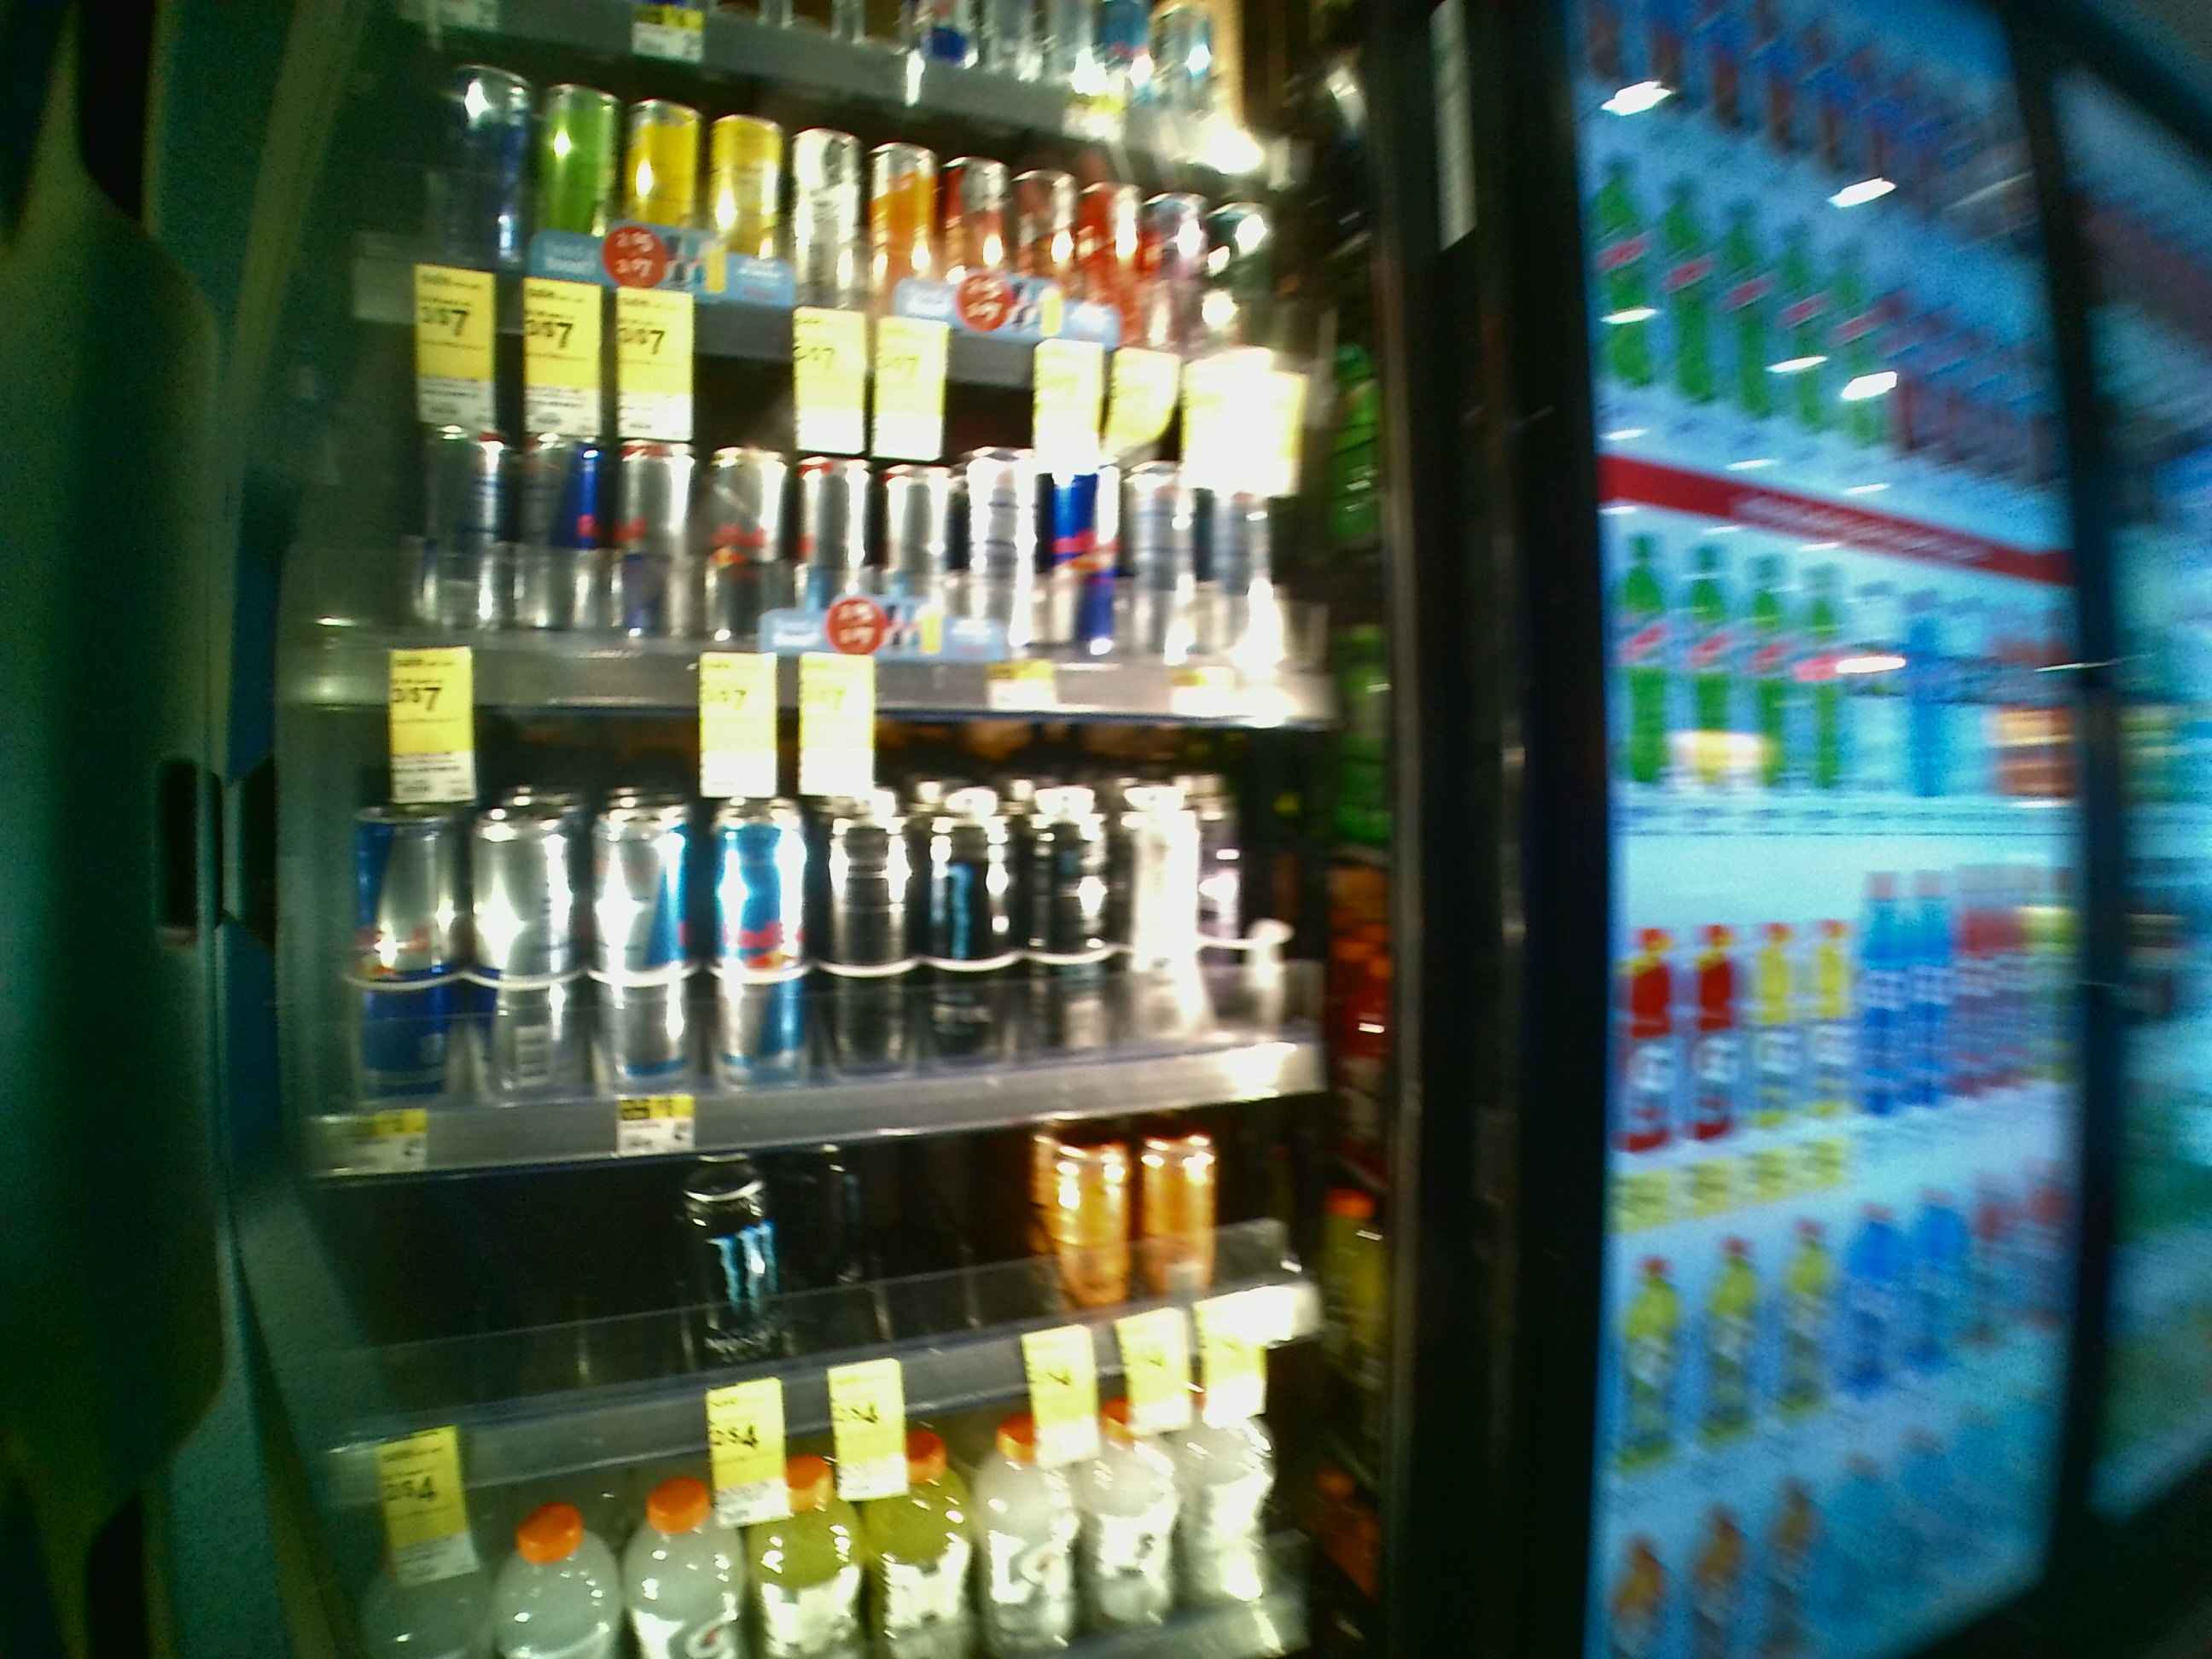shelf: (280, 711, 1413, 1147)
